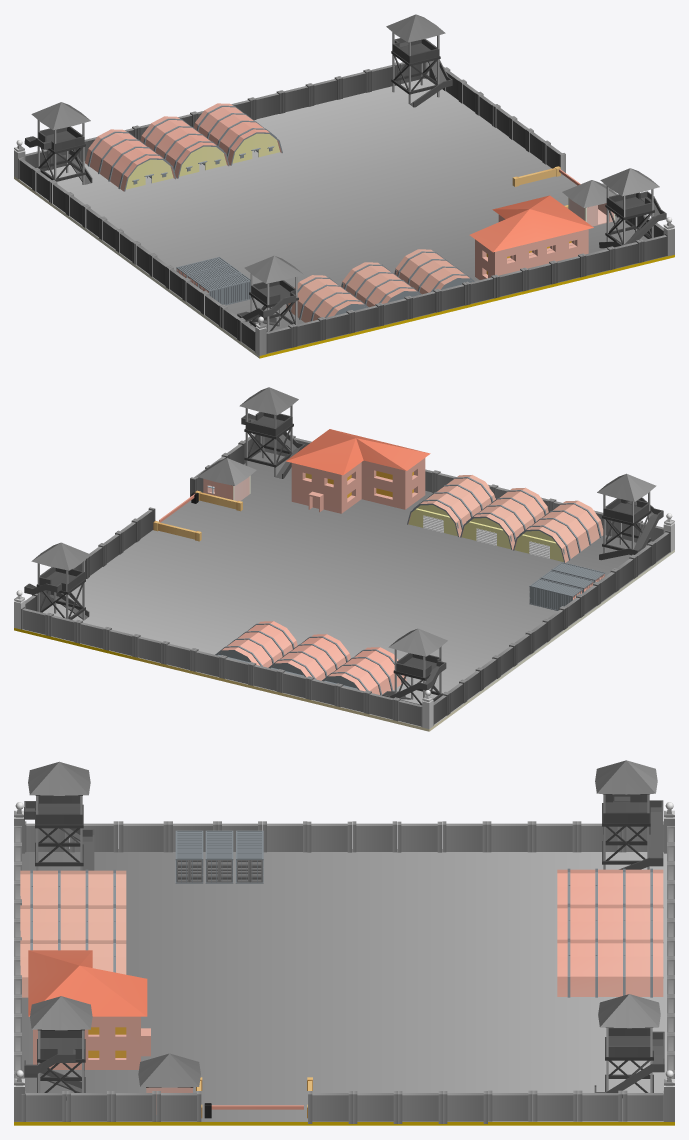
The model's file is robotmainaskeriye1.fbx.
3 views of the same model, one above another, from view 1: azimuth 30°, elevation 25°; view 2: azimuth 150°, elevation 25°; view 3: azimuth 270°, elevation 25° (orthographic). The views are drawn at different scales.
Parts seen in each view (by area): view 1: Cube.020, Cube.141, Cylinder.063, Cylinder.062, Cylinder.061, Cylinder.068, Cylinder.066, Cylinder.064, Conainer, Cube.080, Cube.015, Cube.100 (+32 smaller); view 2: Cube.020, Cube.141, Cylinder.068, Cylinder.066, Cylinder.064, Cylinder.063, Cylinder.061, Cylinder.062, Conainer.002, Cube.080, Cube.134, Cube.002 (+27 smaller); view 3: Cube.020, Cube.141, Cylinder.061, Cylinder.062, Cylinder.063, Cylinder.064, Cylinder.068, Cylinder.066, Cube.080, Cube.015, Cube.134, Cube.100 (+36 smaller).
Part boxes in pixels (x1,y1,x2,y2): Cube.020: [14, 78, 674, 358]; Cube.141: [469, 195, 593, 279]; Cylinder.063: [85, 129, 176, 191]; Cylinder.062: [140, 116, 229, 178]; Cylinder.061: [193, 103, 282, 165]; Cylinder.068: [286, 275, 368, 322]; Cylinder.066: [394, 249, 474, 294]; Cylinder.064: [341, 262, 421, 307]; Conainer: [198, 273, 250, 305]; Cube.080: [600, 168, 659, 196]; Cube.015: [31, 102, 90, 130]; Cube.100: [244, 255, 303, 283]; Cube.020: [14, 451, 674, 731]; Cube.141: [286, 429, 430, 513]; Cylinder.068: [513, 500, 603, 562]; Cylinder.066: [407, 475, 495, 536]; Cylinder.064: [460, 487, 548, 550]; Cylinder.063: [322, 647, 406, 695]; Cylinder.061: [215, 621, 297, 667]; Cylinder.062: [268, 634, 350, 680]; Conainer.002: [529, 578, 582, 610]; Cube.080: [239, 387, 298, 415]; Cube.134: [197, 458, 256, 485]; Cube.002: [31, 542, 90, 570]; Cube.020: [14, 849, 674, 1125]; Cube.141: [28, 950, 150, 1069]; Cylinder.061: [557, 938, 663, 997]; Cylinder.062: [557, 903, 663, 942]; Cylinder.063: [557, 868, 663, 907]; Cylinder.064: [20, 904, 126, 940]; Cylinder.068: [20, 869, 126, 905]; Cylinder.066: [20, 939, 126, 997]; Cube.080: [30, 996, 92, 1030]; Cube.015: [595, 760, 657, 794]; Cube.134: [138, 1053, 200, 1087]; Cube.100: [28, 761, 90, 795].
Bounding box in the file's own units: 33.68 × 6.43 × 34.47.
